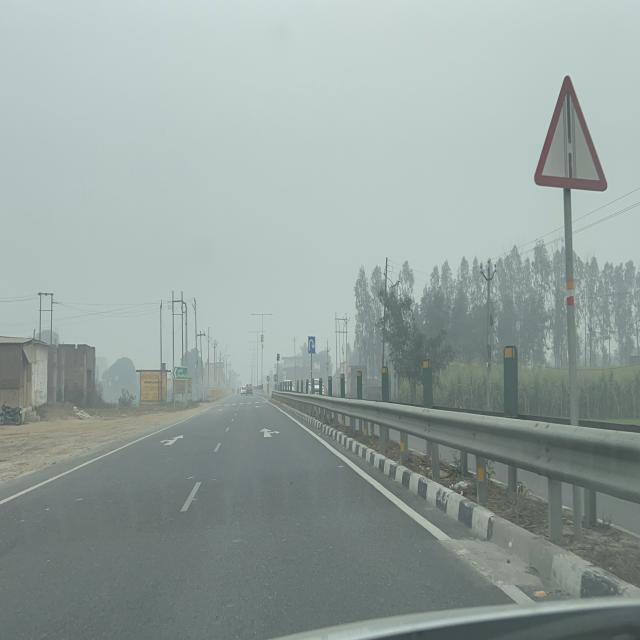GAP_IN_MEDIAN: (534, 74, 608, 192)
GENERAL: (172, 366, 188, 381)
U_TURN: (308, 336, 316, 354)
